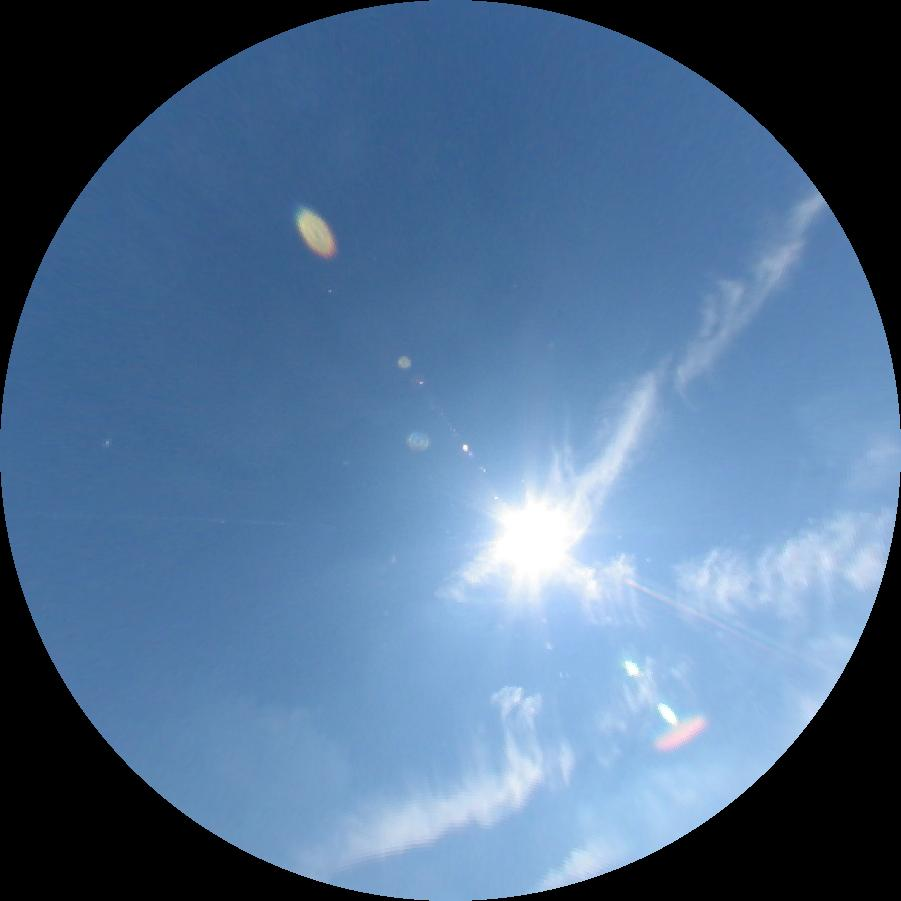contrail veryold: (434, 190, 826, 606), (299, 686, 542, 881)
parasite: (622, 579, 768, 650)
sun: (495, 502, 569, 568)
